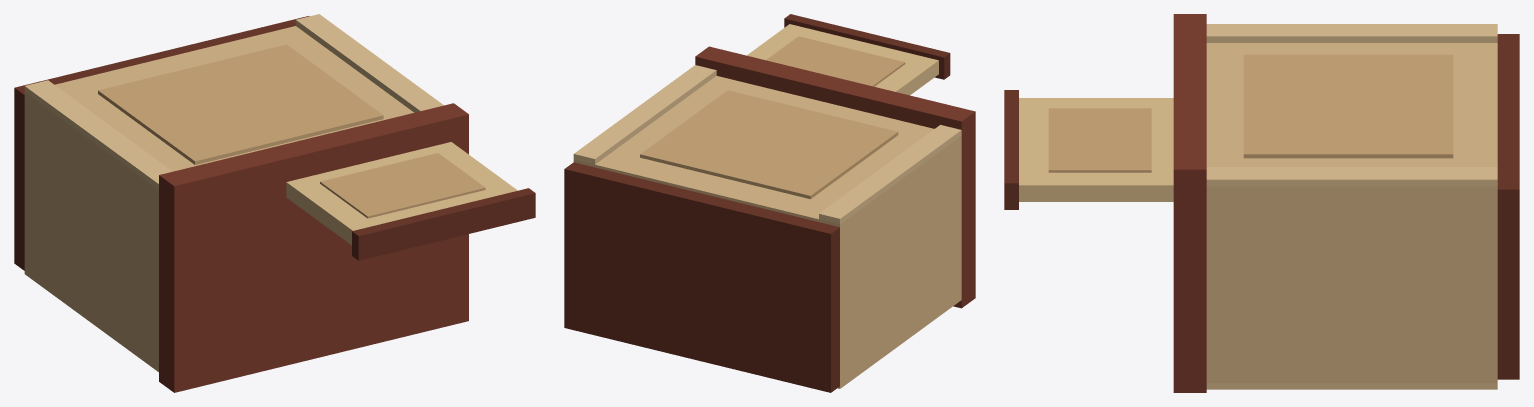
File: section-3.obj
3 views of the same model, side by side, from view 1: azimuth 30°, elevation 25°; view 2: azimuth 150°, elevation 25°; view 3: azimuth 270°, elevation 25° (orthographic). The views are drawn at different scales.
Size of the model in its own units: 1 by 0.67 by 1.4.
1 material, 1 textured.
